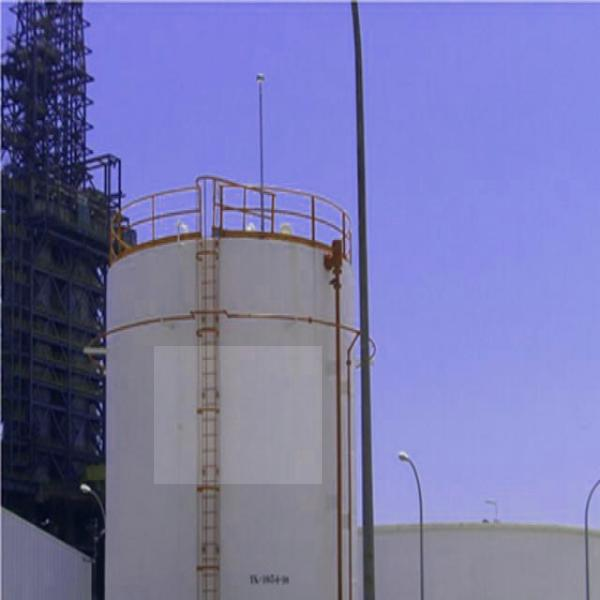no leak: (154, 346, 322, 484)
